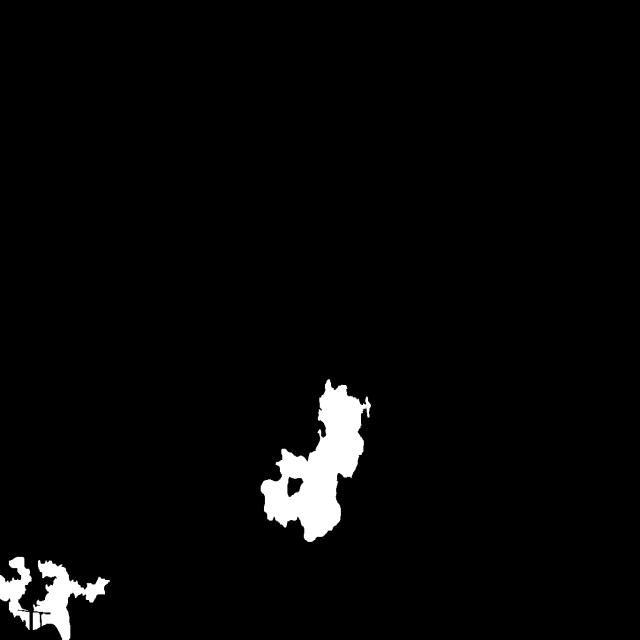fire: (270, 362, 378, 583), (2, 500, 103, 640)
